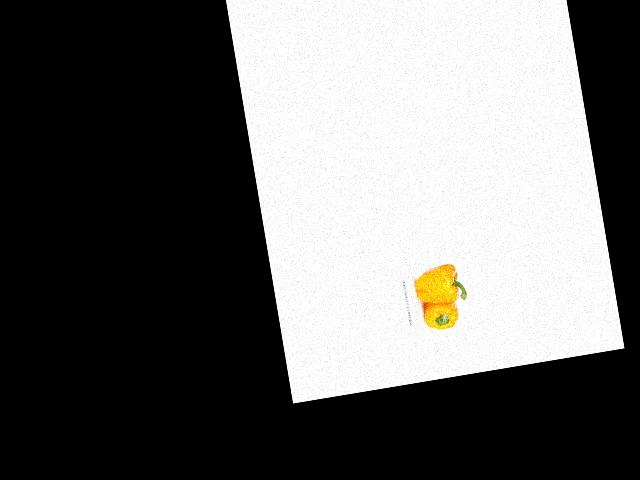bell_pepper: (419, 295, 463, 333)
